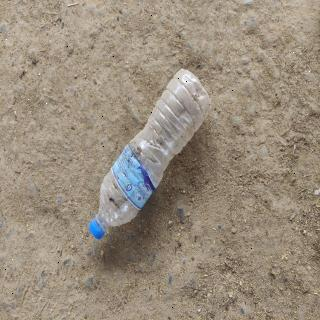Plastic-bottle: (87, 66, 215, 244)
